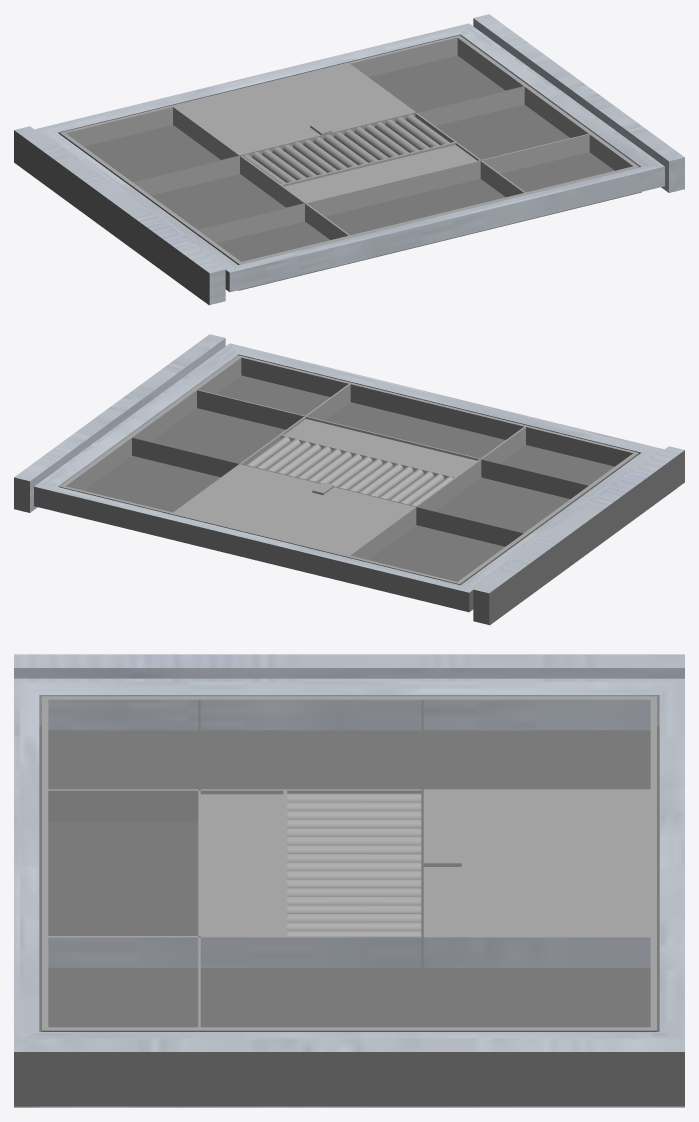
The model's file is JP-drawer-jewelry.glb.
The picture shows the model from 3 angles, top to bottom: view 1: azimuth 30°, elevation 25°; view 2: azimuth 150°, elevation 25°; view 3: azimuth 270°, elevation 25°; orthographic projection. The views are drawn at different scales.
Visible parts, largest first — view 1: Geom3D (×4), Geom3D_; view 2: Geom3D (×4), Geom3D_; view 3: Geom3D (×4), Geom3D_.
Part boxes in pixels (bbox=[...]): Geom3D (×4): bbox=[14, 14, 684, 304]; Geom3D_: bbox=[175, 64, 684, 305]; Geom3D (×4): bbox=[14, 334, 684, 625]; Geom3D_: bbox=[175, 417, 684, 555]; Geom3D (×4): bbox=[14, 654, 684, 1107]; Geom3D_: bbox=[14, 790, 650, 1107].
Size of the model in its own units: 0.6955 by 0.0454 by 0.4962.
Materials: 3 (1 with a texture image).
